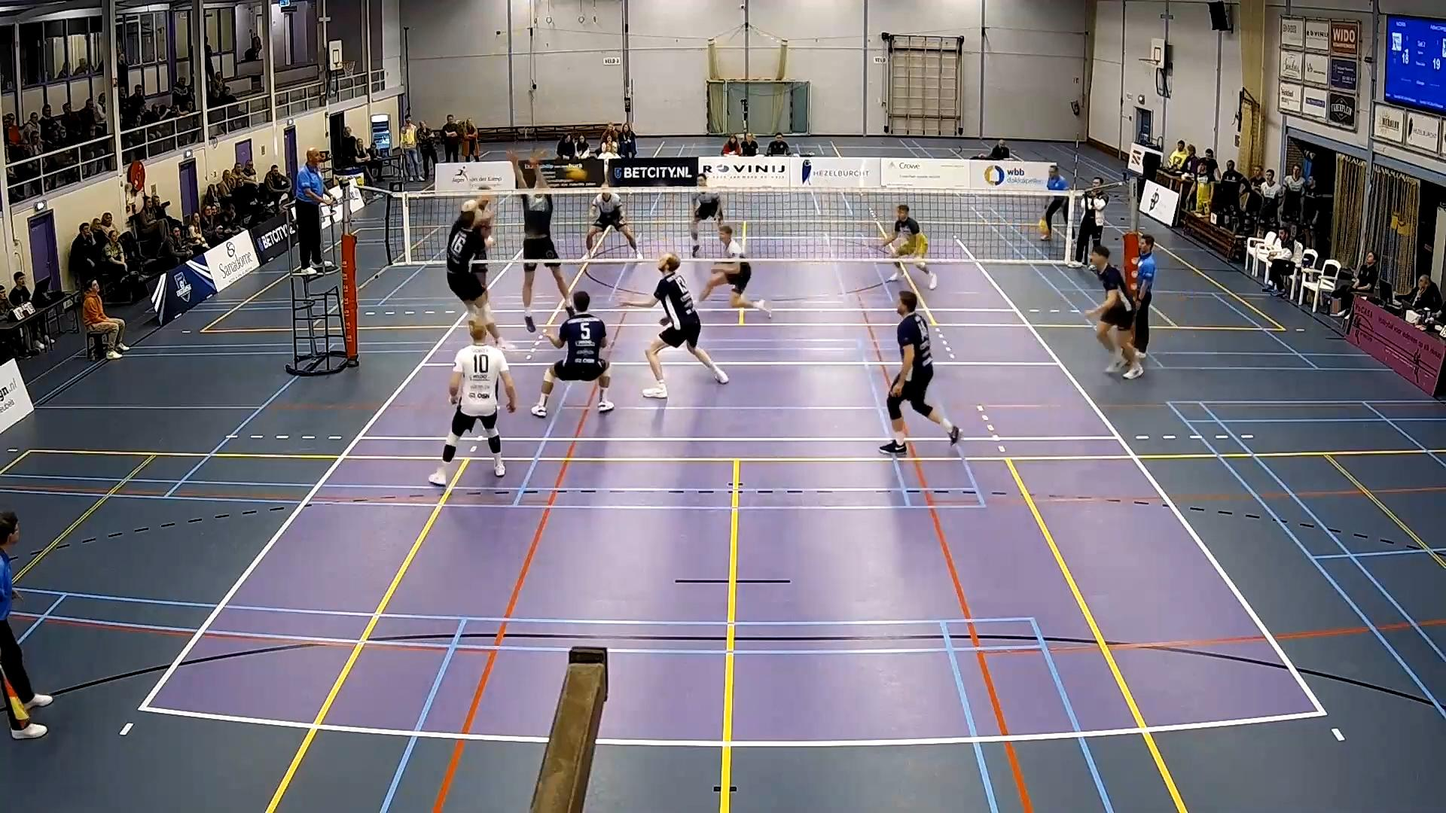attacco: (434, 187, 505, 357)
muro: (507, 149, 581, 334)
